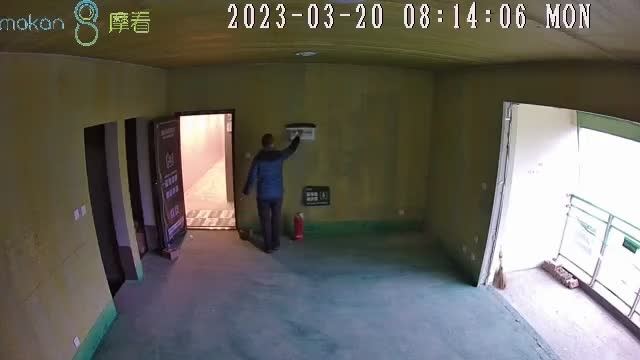people: (244, 134, 300, 253)
window: (551, 125, 640, 323)
